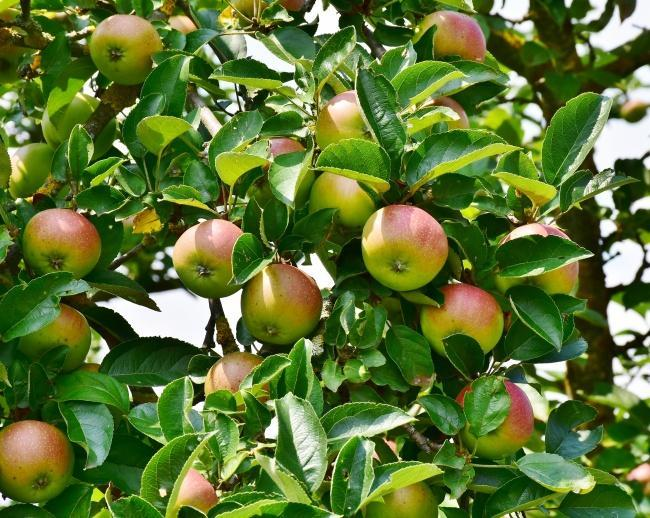apple: (360, 202, 448, 294), (239, 260, 322, 346), (170, 215, 249, 299), (418, 281, 504, 358), (454, 381, 533, 463), (1, 418, 74, 502), (9, 298, 88, 374), (501, 221, 578, 295), (21, 207, 101, 278), (87, 14, 160, 86), (314, 90, 387, 156), (310, 168, 369, 236), (413, 11, 486, 62), (362, 469, 438, 517)
